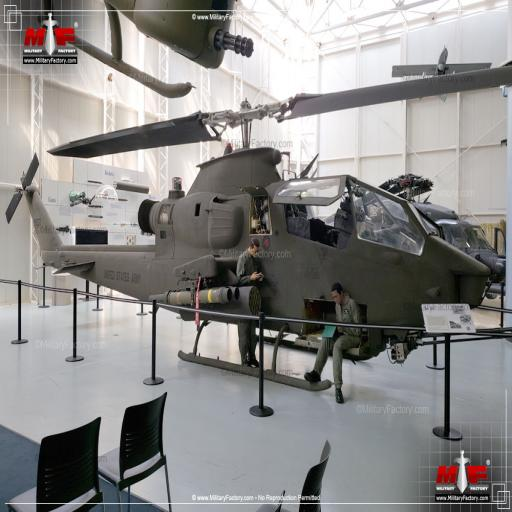helicopter: (7, 64, 497, 405)
